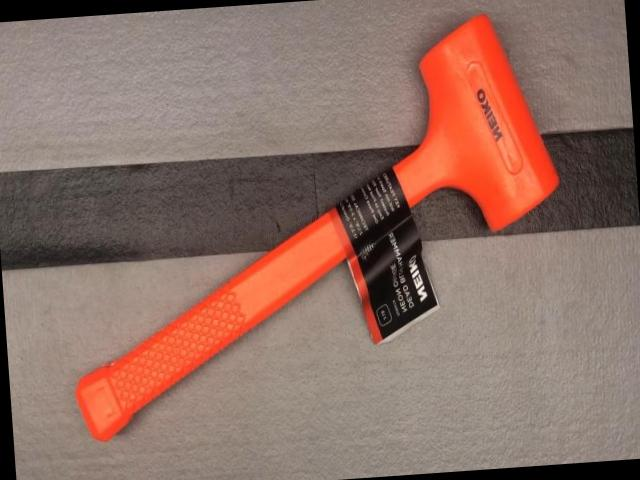hammer: (50, 10, 575, 442)
